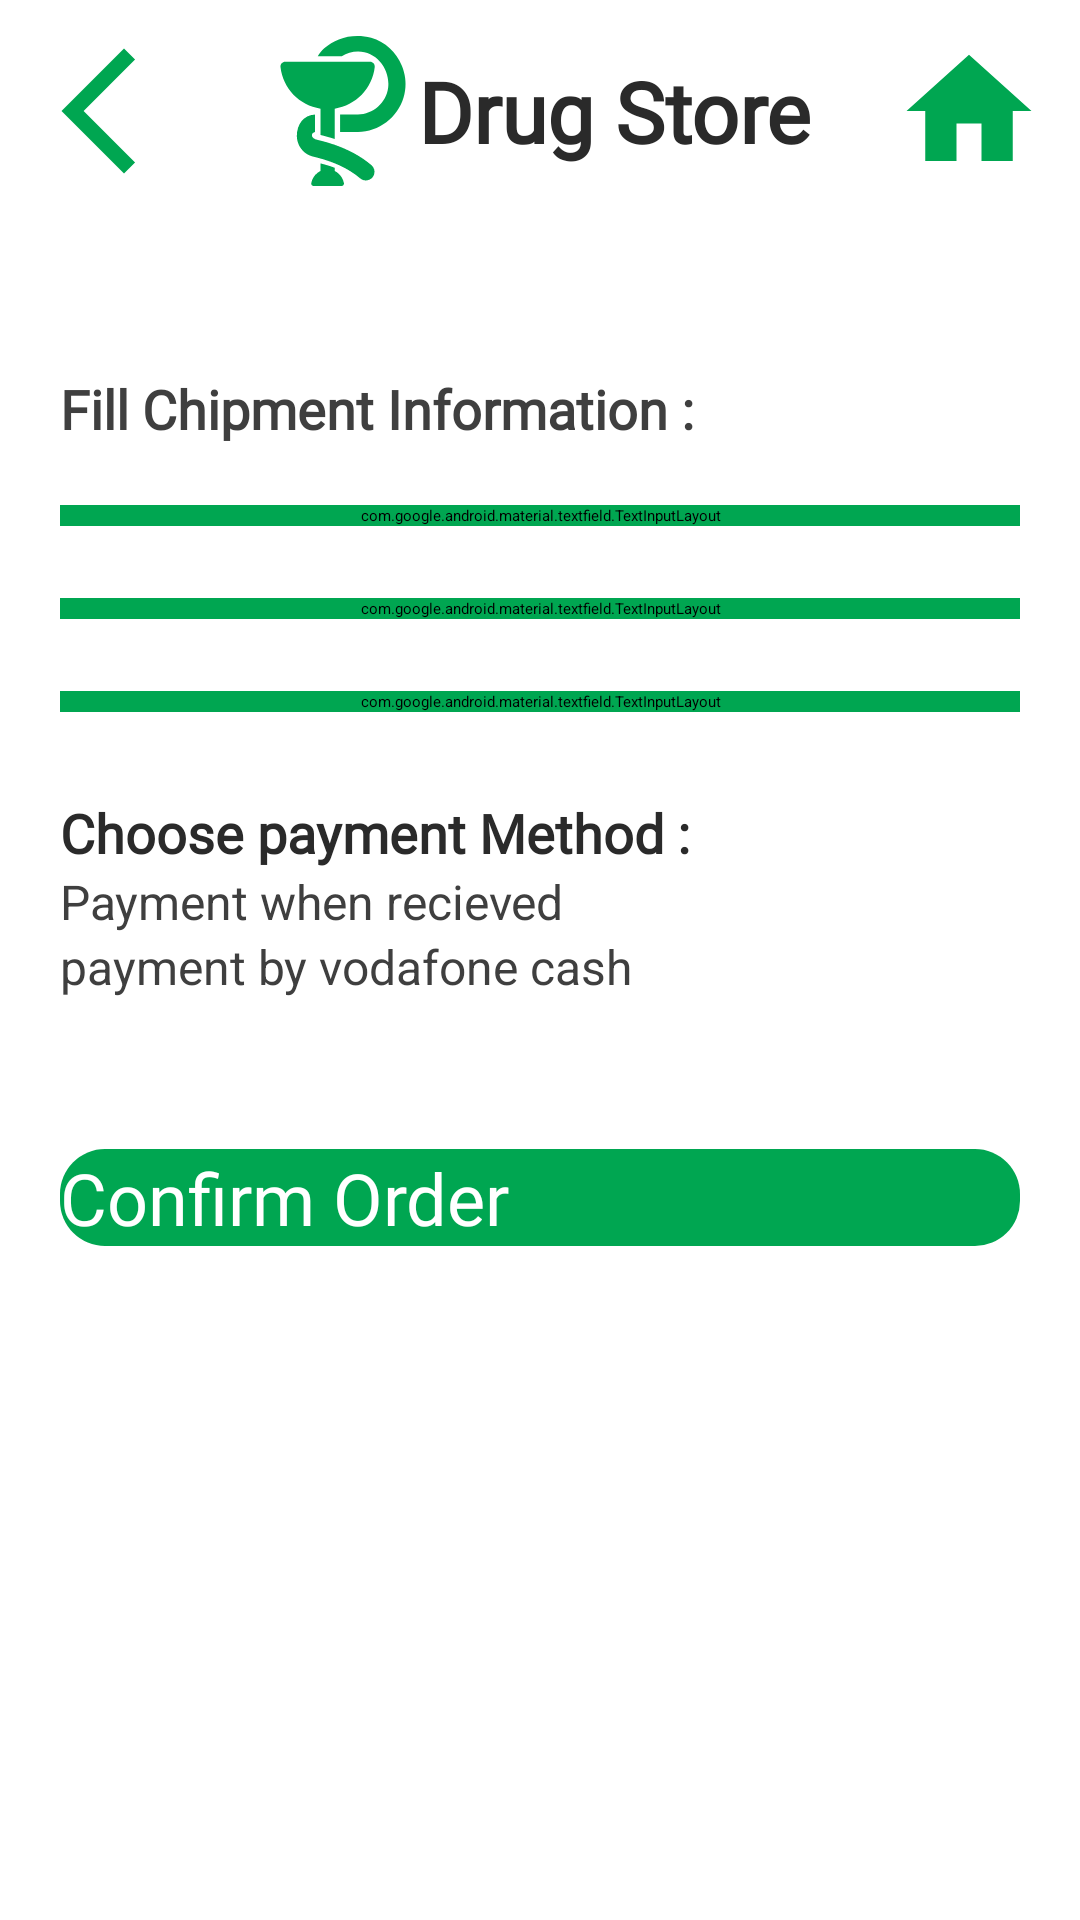

Icons on this 1080w x 1920h Android screen, each with its box as (x1, y1, x2, y2):
arrow back: (61, 48, 135, 174)
home: (907, 55, 1031, 161)
pharmacy: (280, 36, 406, 186)
